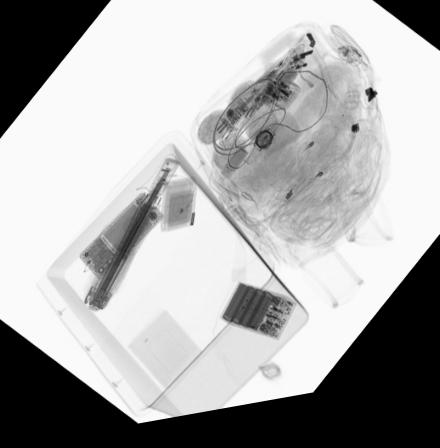Powerbank: (220, 291, 297, 349)
